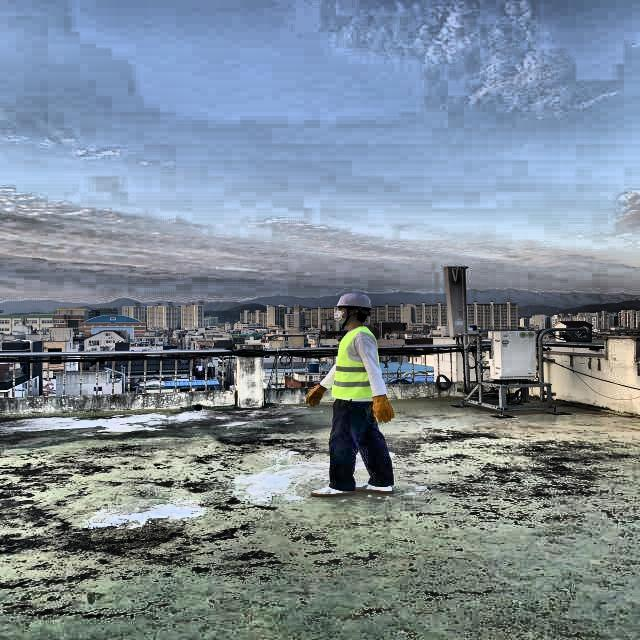gloved: (372, 394, 395, 423), (305, 383, 328, 407)
